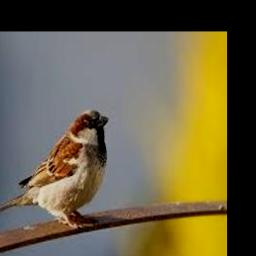Sparrow: (0, 109, 109, 230)
